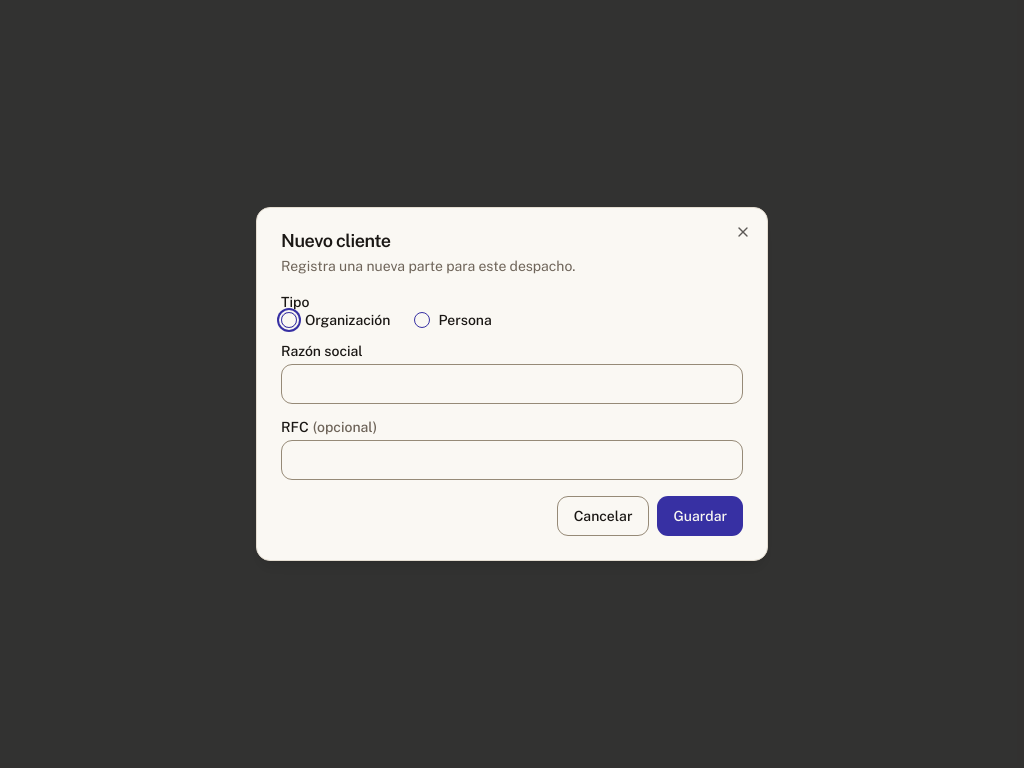
Test: a server refusal lands on the form, with the typing intact › keeps what was typed when the server refuses
Expected: the dialog is shown, [256, 207, 768, 561]
Type "Juan Perez" into the field labelled "Razón social". click: (512, 384)
box: [281, 364, 743, 404]
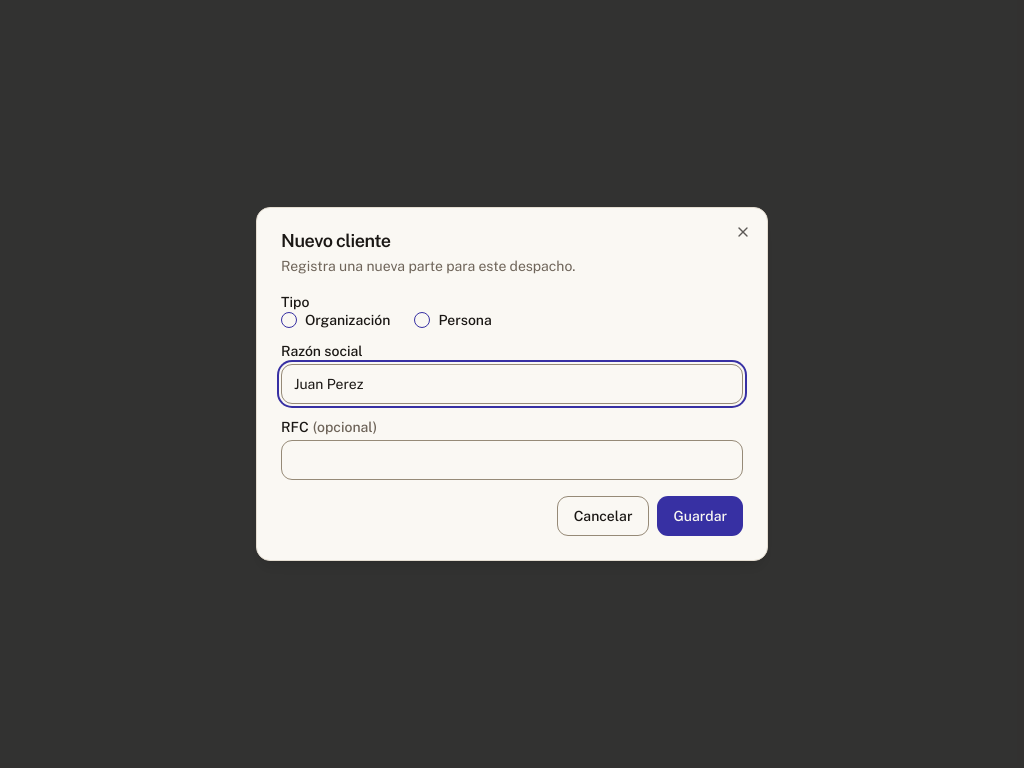
Click the radio button named "persona" next to "Persona". click: (422, 320)
box: [414, 312, 430, 328]
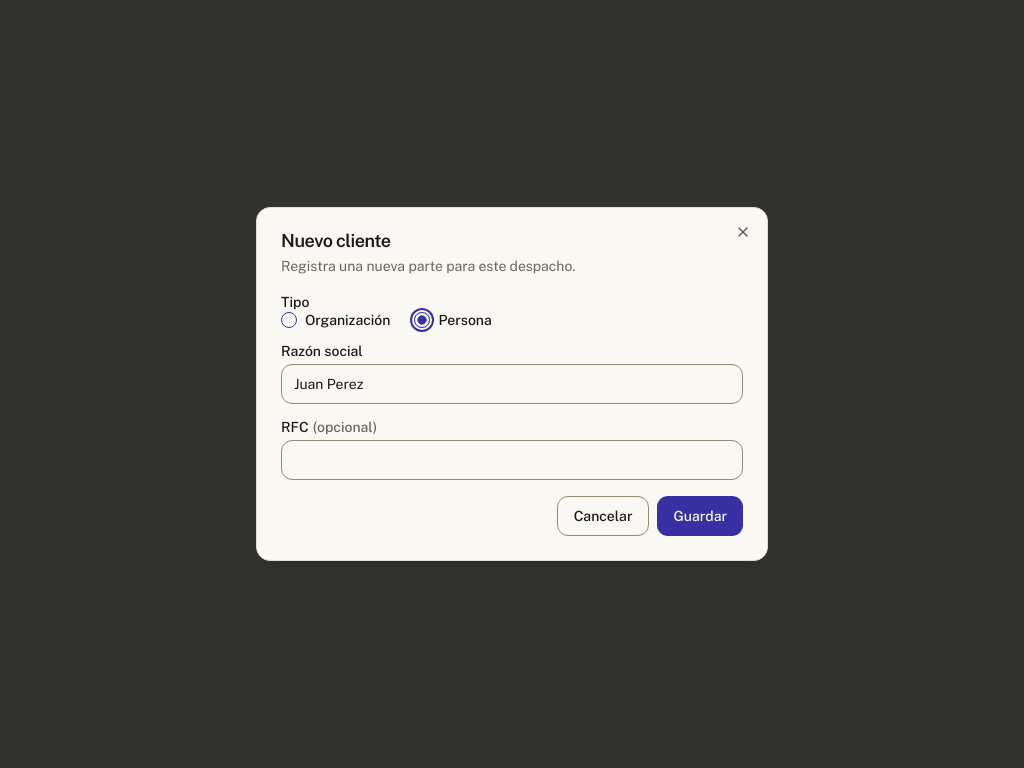
Click the button "Guardar". click: (700, 516)
box: [658, 496, 743, 536]
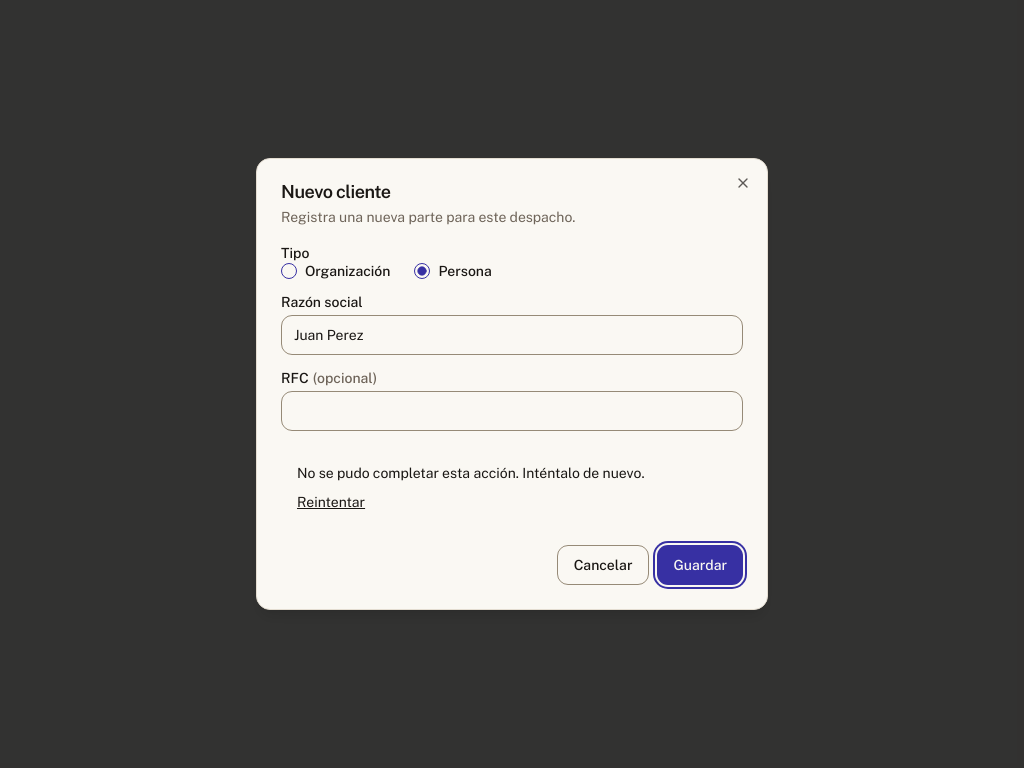
Expected: the message "No se pudo completar esta acción. Inténtalo de nuevo. Reintentar" is shown, [297, 465, 645, 513]
